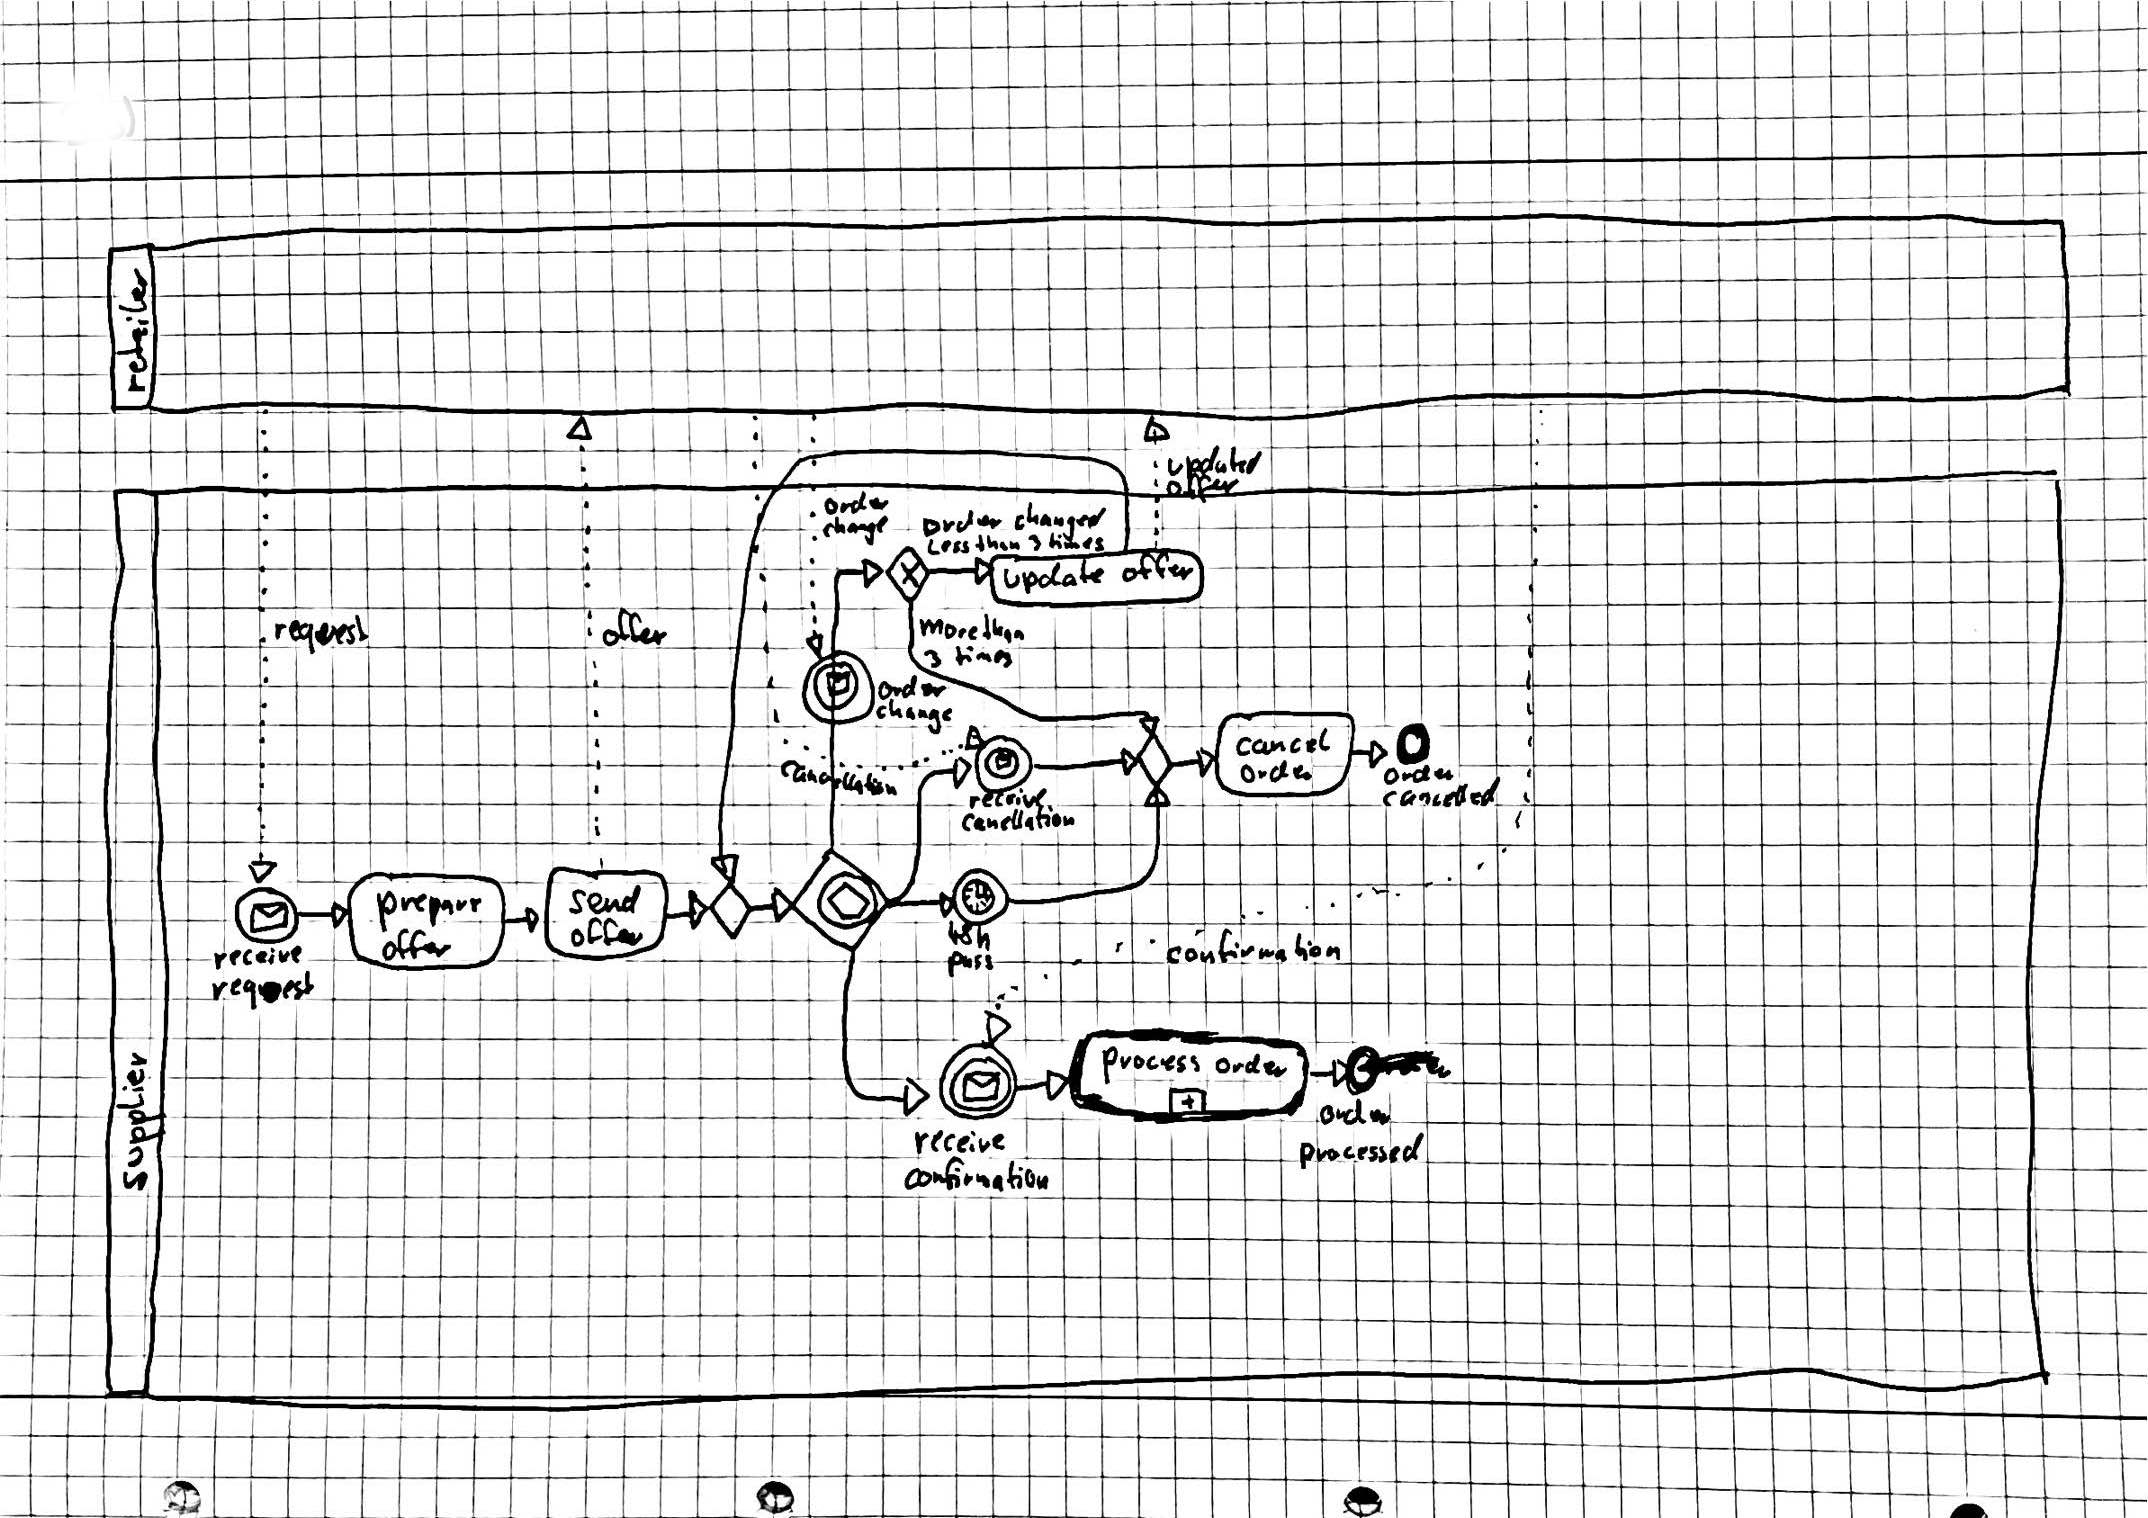3: (920, 641, 944, 675), (1026, 532, 1043, 555)
48: (943, 913, 972, 943)
Cancellation: (778, 762, 906, 798), (961, 808, 1074, 833)
Less: (926, 537, 967, 559)
Order: (1383, 757, 1453, 790)
Pass: (951, 946, 997, 977)
Process: (1099, 1045, 1209, 1084)
Processed: (1296, 1134, 1430, 1173)
Supplier: (118, 1053, 156, 1189)
Update: (1002, 555, 1112, 596)
cancel: (1235, 728, 1335, 756)
cancelled: (1381, 775, 1512, 810)
change: (870, 697, 956, 731), (819, 516, 893, 544)
changed: (1010, 504, 1112, 539)
confirmation: (1163, 928, 1343, 964), (902, 1161, 1049, 1198)
h: (975, 927, 994, 951)
more: (916, 616, 975, 642)
offer: (1117, 550, 1197, 591), (599, 609, 670, 651), (379, 930, 453, 964), (567, 917, 640, 948), (1164, 471, 1237, 503)
order: (1317, 1096, 1393, 1130), (923, 508, 1000, 537), (1242, 756, 1314, 785), (872, 675, 952, 701), (1215, 1051, 1287, 1079), (824, 493, 892, 517)
prepare: (374, 889, 489, 931)
receive: (911, 1129, 1012, 1158), (212, 943, 305, 973), (966, 789, 1051, 816)
request: (266, 616, 371, 654), (209, 973, 315, 1009)
retailer: (117, 264, 154, 394)
send: (568, 885, 644, 917)
than: (984, 613, 1026, 646), (975, 534, 1021, 555)
times: (952, 646, 1013, 669), (1044, 532, 1108, 552)
updated: (1163, 444, 1264, 478)
